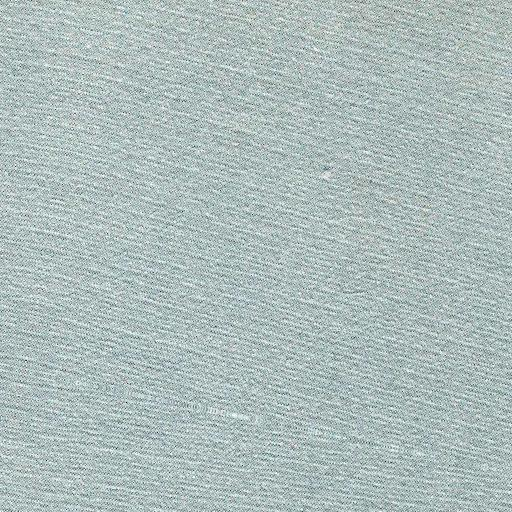knot: (307, 155, 352, 194)
